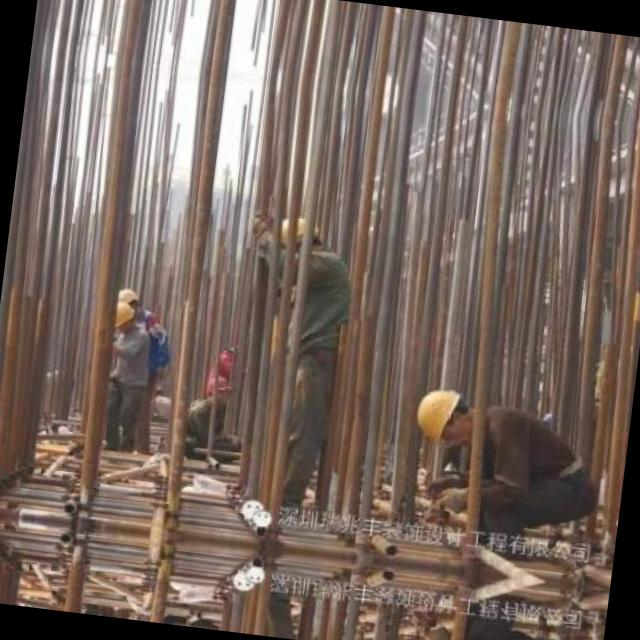helmet: (408, 377, 476, 451), (268, 212, 334, 266), (100, 298, 134, 330), (112, 284, 140, 311)
